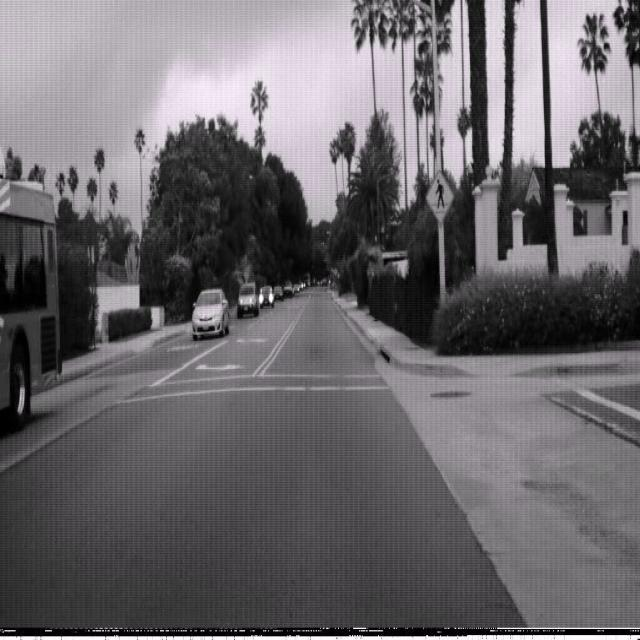pedestrianCrossing: (425, 167, 455, 227)
